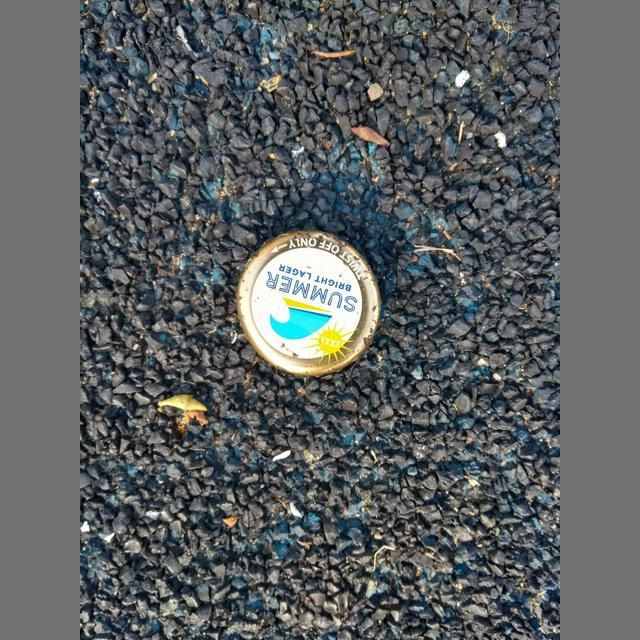litter: (237, 229, 381, 376)
